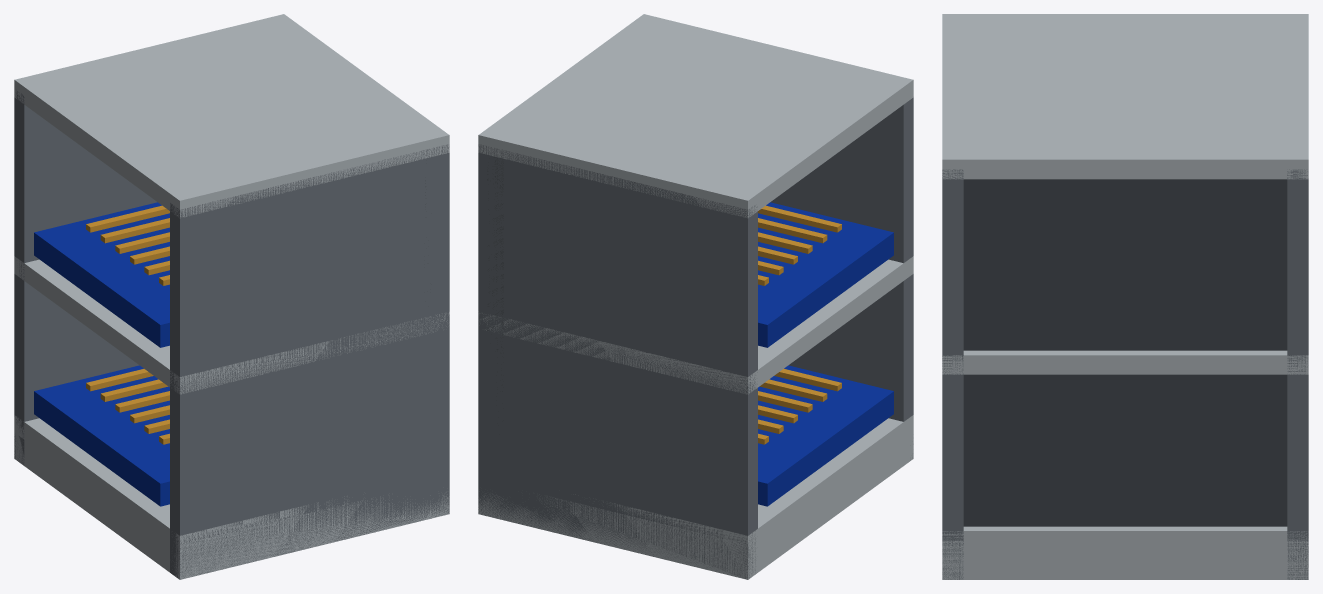
Rendered from L131_USB32_12.fbx.
The picture shows the model from 3 angles, left to right: view 1: azimuth 30°, elevation 25°; view 2: azimuth 150°, elevation 25°; view 3: azimuth 270°, elevation 25°; orthographic projection. The views are drawn at different scales.
Visible parts, largest first — view 1: USB32_12_Steel, USB32_12_Silver, USB32_12_Blue, USB32_12_Gold; view 2: USB32_12_Steel, USB32_12_Silver, USB32_12_Blue, USB32_12_Gold; view 3: USB32_12_Gray, USB32_12_Silver, USB32_12_Steel.
Boxes of the visible parts, x1,y1,x2,y2 form: USB32_12_Steel: (14,90,449,579); USB32_12_Silver: (14,14,449,579); USB32_12_Blue: (34,202,169,506); USB32_12_Gold: (86,205,169,444); USB32_12_Steel: (478,97,913,579); USB32_12_Silver: (478,14,913,579); USB32_12_Blue: (758,202,893,506); USB32_12_Gold: (758,205,841,444); USB32_12_Gray: (963,179,1287,526); USB32_12_Silver: (942,14,1308,579); USB32_12_Steel: (942,169,1308,579).
Size of the model in its own units: 1.6 by 2.15 by 1.7.
